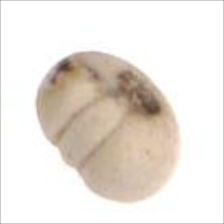L5: (53, 93, 130, 167), (108, 66, 171, 122)
L6: (34, 50, 182, 206)
